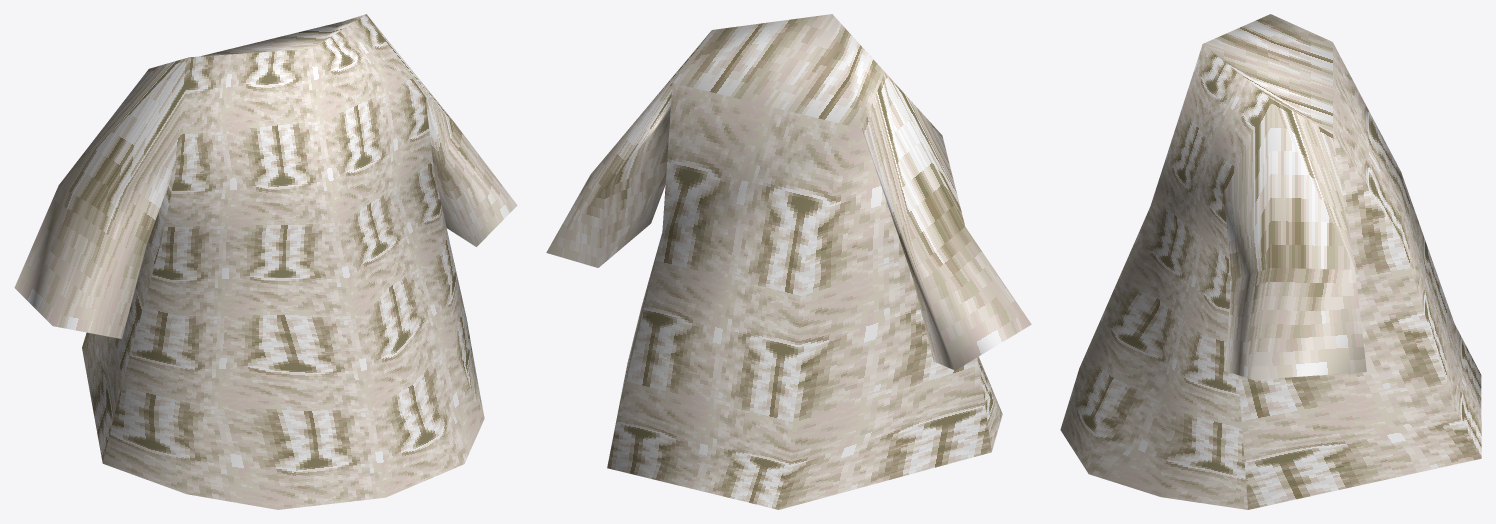
The model's file is 2506dress000_r.gltf.
3 views of the same model, side by side, from view 1: azimuth 30°, elevation 25°; view 2: azimuth 150°, elevation 25°; view 3: azimuth 270°, elevation 25° (orthographic). The views are drawn at different scales.
Visible parts, largest first — view 1: 2506dress000_r; view 2: 2506dress000_r; view 3: 2506dress000_r.
Boxes of the visible parts, x1,y1,x2,y2 form: 2506dress000_r: (14, 14, 517, 509); 2506dress000_r: (546, 14, 1031, 509); 2506dress000_r: (1060, 14, 1481, 509).
Bounding box in the file's own units: 1.09 × 0.8945 × 0.8848.
1 material, 1 textured.
